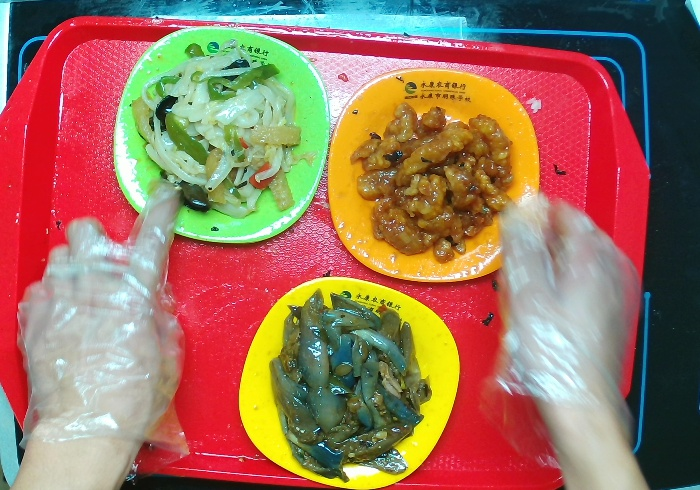YKMZ-Huang_Se_Fang_Die: (231, 273, 475, 490)
YKMZ-Ju_Se_Fang_Die: (316, 63, 545, 287)
YKMZ-Lv_Se_Fang_Die: (106, 20, 337, 250)
